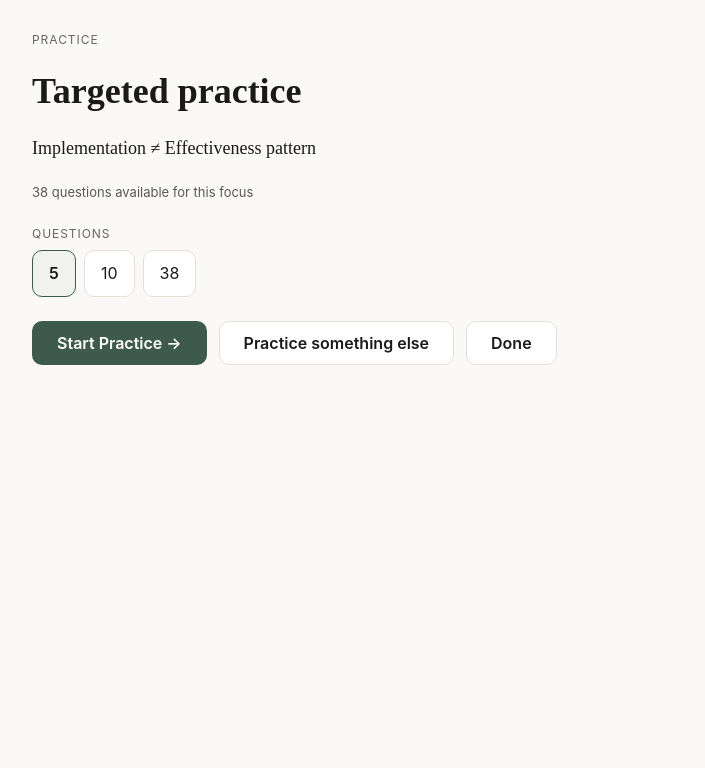
Test: PracticeScreen — targeted entry (concept/family/pattern/qualifier/... scope) › a cross-cutting (pattern) target's session only draws matching current questions
This screenshot has width=705, height=768.
Step 1. Click the button "Start Practice →" → (119, 343), box [32,321,207,365]
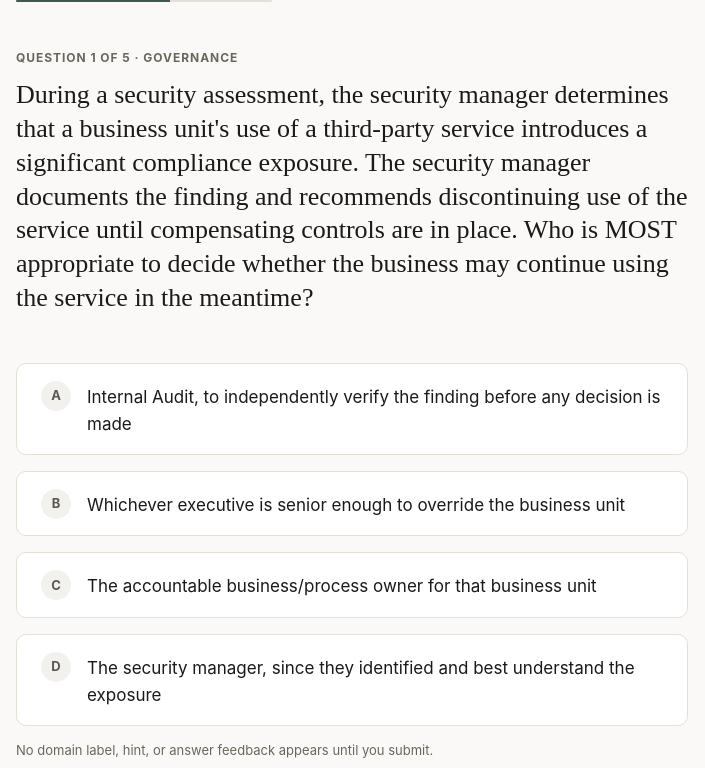
Expected: the element named "Answer options" is shown, [16,363,688,726]
